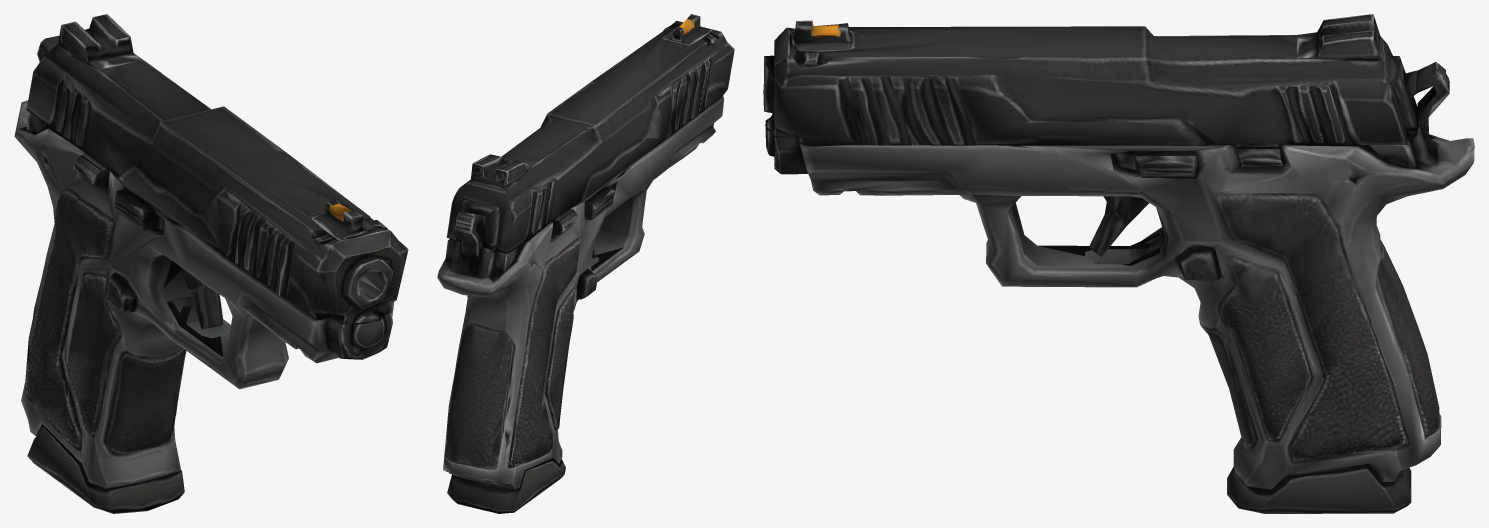
File: wpn_pi_viper_tp.glb
3 views of the same model, side by side, from view 1: azimuth 30°, elevation 25°; view 2: azimuth 150°, elevation 25°; view 3: azimuth 270°, elevation 25° (orthographic). The views are drawn at different scales.
Parts seen in each view (by area): view 1: body, bolt, trigger; view 2: body, bolt; view 3: body, bolt, trigger.
Part boxes in pixels (x1,y1,x2,y2): body: (14,35,394,513); bolt: (26,14,408,324); trigger: (172,267,229,337); body: (437,95,724,513); bolt: (446,14,734,253); body: (765,62,1474,513); bolt: (763,14,1417,147); trigger: (1085,196,1159,263).
Size of the model in its own units: 0.0399 by 0.1527 by 0.2098.
1 material, 1 textured.
